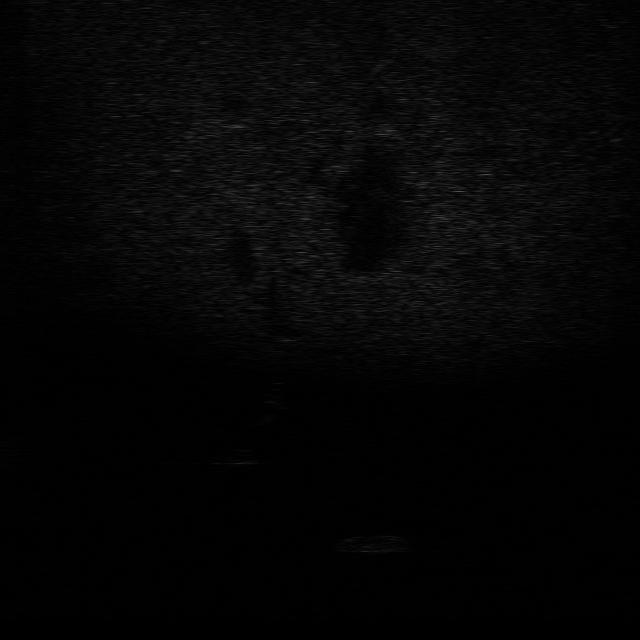ball: (215, 444, 260, 469)
circle cage: (332, 527, 418, 559)
human body: (252, 372, 288, 432)
